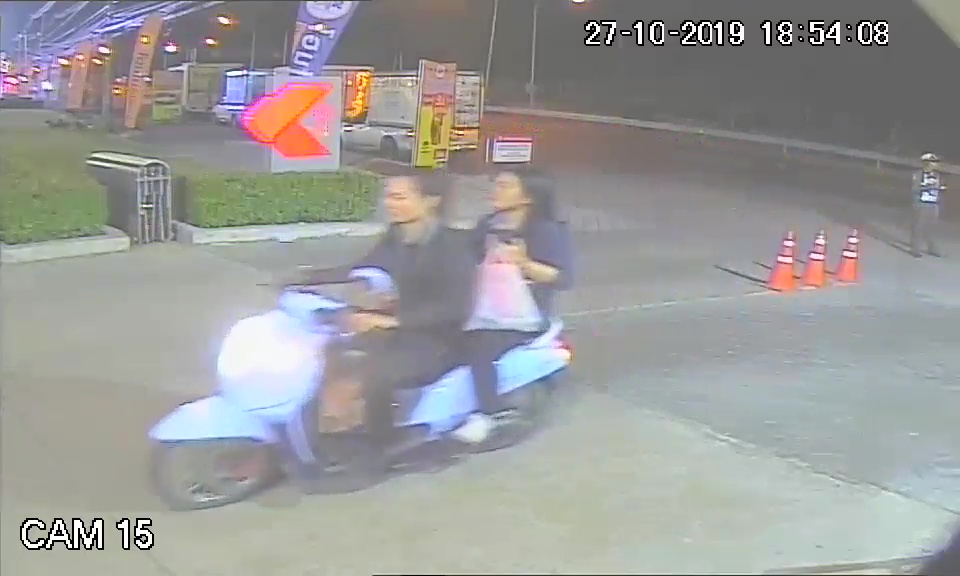motorcycle: (144, 283, 576, 512)
